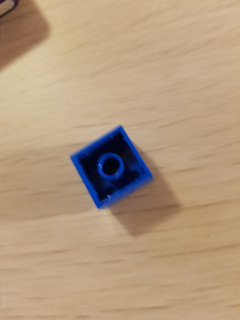2x2 blue: (65, 122, 158, 212)
